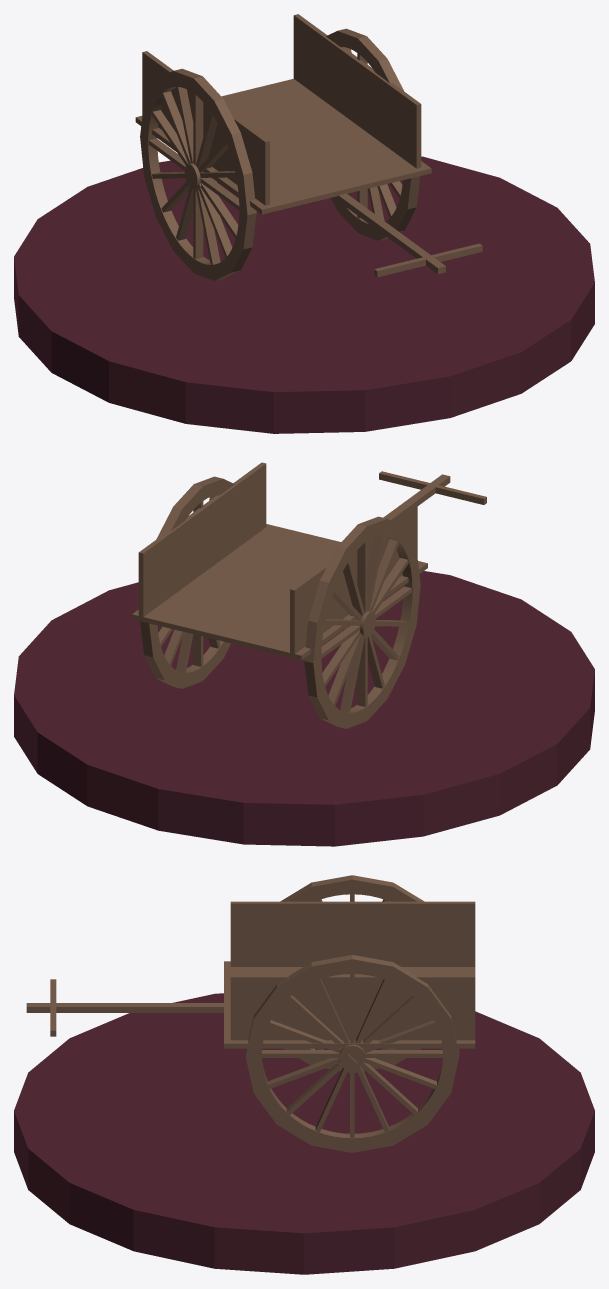
3 views of the same model, one above another, from view 1: azimuth 30°, elevation 25°; view 2: azimuth 150°, elevation 25°; view 3: azimuth 270°, elevation 25° (orthographic).
Visible parts, largest first — view 1: cart; view 2: cart; view 3: cart.
Part boxes in pixels (x1=…): cart: x1=14, y1=14, x2=594, y2=433; cart: x1=14, y1=462, x2=594, y2=846; cart: x1=14, y1=875, x2=594, y2=1274.
Bounding box in the file's own units: 2.5 × 1.12 × 2.5.
